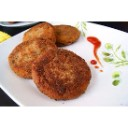cutlet: (34, 49, 91, 98), (9, 37, 57, 77), (22, 23, 56, 48), (51, 23, 83, 44)
